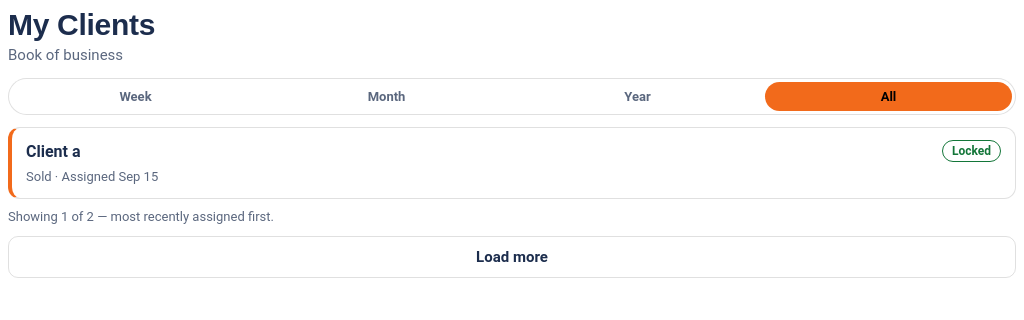
Test: Canvass-5 — paging the list › the cursor is sent on the second request and not on the first
expect the text "Client a" is shown: met, box [26,142,80,160]
Click the button "Load more" at (512, 257), box [8,236,1016,278]
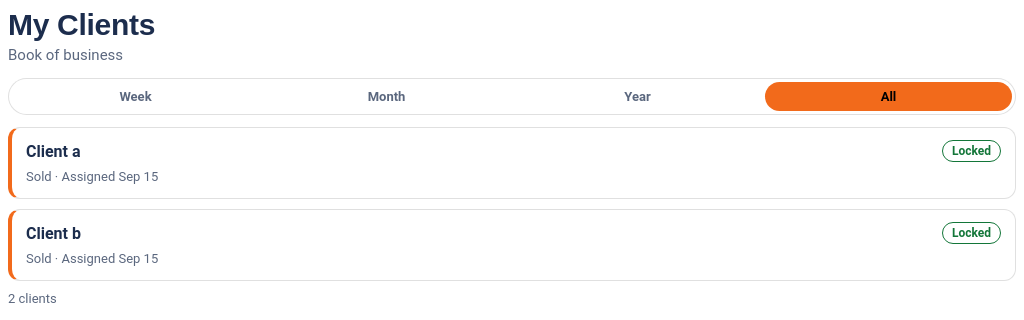
expect the text "Client b" is shown: met, box [26,224,81,243]
